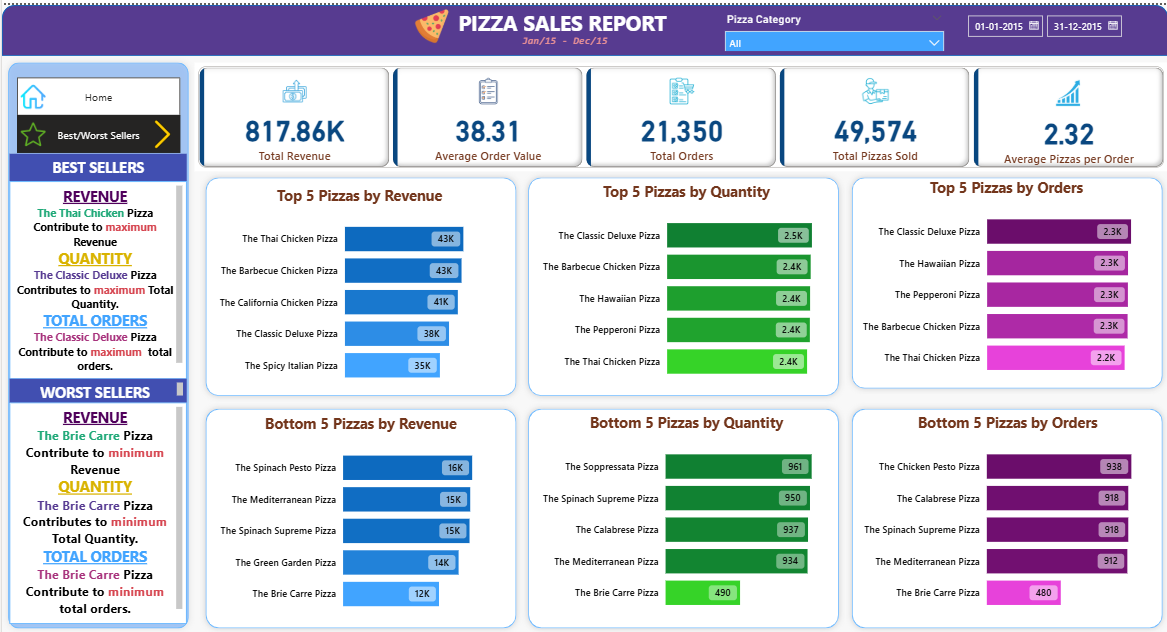

This screenshot's page, from the dashboard's own definition file:
{"tool":"powerbi","page":{"name":"Best/Worst Sellers","canvas":[1500,820],"ordinal":1},"visuals":[{"type":"shape","box":[0,65.4,248,744],"z":0},{"type":"cardVisual","fields":{"Data":["pizza_sales.Total Revenue","pizza_sales.Average Order Value","pizza_sales.Total Orders","pizza_sales.Total Pizzas Sold","pizza_sales.Average Pizzas per Order"]},"box":[248,73.6,1252.3,140.4],"z":1000},{"type":"shape","box":[0,0,1500.3,65.4],"z":2000},{"type":"textbox","box":[581.9,0,291.6,54.5],"z":3000},{"type":"textbox","box":[663.6,31.3,151.3,34.1],"z":4000},{"type":"image","box":[505.5,0,95.4,54.5],"z":5000},{"type":"shape","box":[253.5,213.9,415.6,297.1],"z":6000},{"type":"textbox","box":[9.6,191.4,228.3,35.4],"z":7000},{"type":"textbox","box":[9.6,511.4,228.3,284.6],"z":8000},{"type":"textbox","box":[9.6,226.7,228.3,254.1],"z":9000},{"type":"textbox","box":[9.6,480.8,228.3,30.6],"z":10000},{"type":"slicer","fields":{"Values":["pizza_sales.pizza_category"]},"box":[919.8,4.8,302.3,54.7],"z":11000},{"type":"slicer","fields":{"Values":["pizza_sales.order_date"]},"box":[1230.2,3.2,252.5,56.3],"z":12000},{"type":"shape","box":[669.1,213.9,415.6,297.1],"z":13000},{"type":"shape","box":[1084.7,213.9,415.6,287.5],"z":14000},{"type":"shape","box":[253.5,511,415.6,298.4],"z":15000},{"type":"shape","box":[669.1,511,415.6,298.4],"z":16000},{"type":"shape","box":[1084.7,511,415.6,298.4],"z":17000},{"type":"barChart","title":"Top 5 Pizzas by Revenue","fields":{"Category":["pizza_sales.pizza_name"],"Y":["pizza_sales.Total Revenue"]},"box":[273.4,231.6,373.1,270.2],"z":18000},{"type":"barChart","title":"Bottom 5 Pizzas by Revenue","fields":{"Category":["pizza_sales.pizza_name"],"Y":["pizza_sales.Total Revenue"]},"box":[275,525.8,373.1,270.2],"z":19000},{"type":"barChart","title":"Top 5 Pizzas by Quantity","fields":{"Category":["pizza_sales.pizza_name"],"Y":["pizza_sales.Total Pizzas Sold"]},"box":[689.9,226.7,381.1,270.2],"z":20000},{"type":"barChart","title":"Bottom 5 Pizzas by Quantity","fields":{"Category":["pizza_sales.pizza_name"],"Y":["pizza_sales.Total Pizzas Sold"]},"box":[689.9,524.2,381.1,270.2],"z":21000},{"type":"barChart","title":"Top 5 Pizzas by Orders","fields":{"Category":["pizza_sales.pizza_name"],"Y":["pizza_sales.Total Orders"]},"box":[1101.5,221.9,381.1,270.2],"z":22000},{"type":"barChart","title":"Bottom 5 Pizzas by Orders","fields":{"Category":["pizza_sales.pizza_name"],"Y":["pizza_sales.Total Orders"]},"box":[1103.1,524.2,381.1,270.2],"z":23000},{"type":"pageNavigator","box":[19.3,93.3,210.7,49.9],"z":24000},{"type":"pageNavigator","box":[19.3,141.5,210.7,49.9],"z":25000},{"type":"image","box":[183.3,141.5,46.6,49.9],"z":26000},{"type":"image","box":[19.3,93.3,41.8,49.9],"z":27000},{"type":"image","box":[19.3,141.5,41.8,49.9],"z":28000}]}

Visuals, with their boxes in screenshot pixels (x1, y1, x2, y2), scaled from the page's 1500x820 canvas onto the 1167x632 screenshot:
shape: crop(0, 50, 193, 624)
cardVisual - pizza_sales.Total Revenue x pizza_sales.Average Order Value: crop(193, 57, 1166, 165)
shape: crop(0, 0, 1166, 50)
textbox: crop(453, 0, 680, 42)
textbox: crop(516, 24, 634, 50)
image: crop(393, 0, 468, 42)
shape: crop(197, 165, 521, 394)
textbox: crop(7, 148, 185, 175)
textbox: crop(7, 394, 185, 614)
textbox: crop(7, 175, 185, 371)
textbox: crop(7, 371, 185, 394)
slicer - pizza_sales.pizza_category: crop(716, 4, 951, 46)
slicer - pizza_sales.order_date: crop(957, 2, 1154, 46)
shape: crop(521, 165, 844, 394)
shape: crop(844, 165, 1166, 386)
shape: crop(197, 394, 521, 624)
shape: crop(521, 394, 844, 624)
shape: crop(844, 394, 1166, 624)
"Top 5 Pizzas by Revenue" barChart: crop(213, 179, 503, 387)
"Bottom 5 Pizzas by Revenue" barChart: crop(214, 405, 504, 614)
"Top 5 Pizzas by Quantity" barChart: crop(537, 175, 833, 383)
"Bottom 5 Pizzas by Quantity" barChart: crop(537, 404, 833, 612)
"Top 5 Pizzas by Orders" barChart: crop(857, 171, 1153, 379)
"Bottom 5 Pizzas by Orders" barChart: crop(858, 404, 1155, 612)
pageNavigator: crop(15, 72, 179, 110)
pageNavigator: crop(15, 109, 179, 148)
image: crop(143, 109, 179, 148)
image: crop(15, 72, 48, 110)
image: crop(15, 109, 48, 148)
